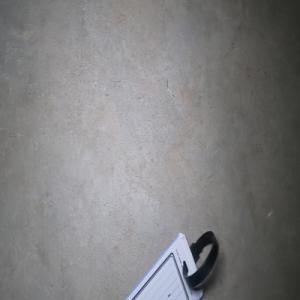LuggageTag: (121, 229, 219, 300)
